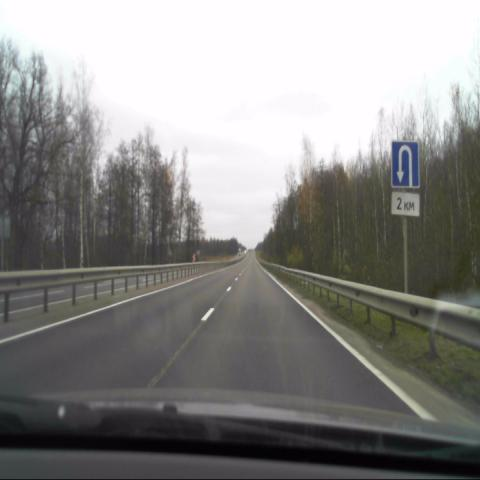6_3_1: (392, 142, 420, 188)
